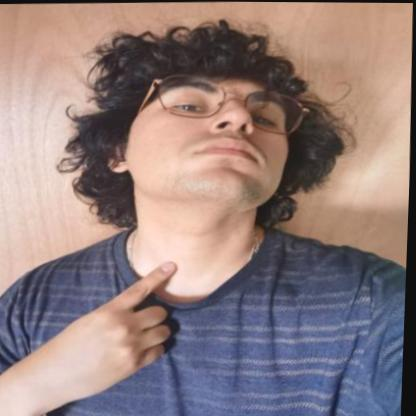Q: (22, 259, 188, 402)
